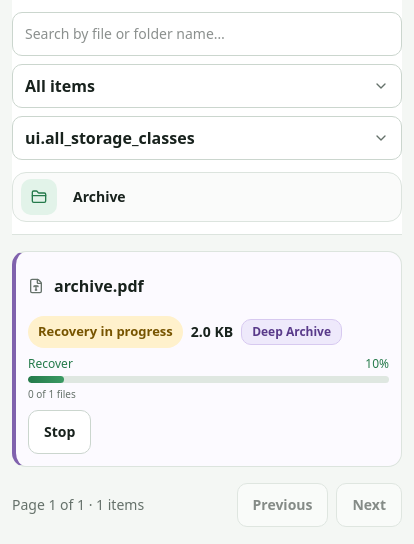
File list auto-refresh (issue #128) › seam 3: cancel recover keeps restoring badge when catalog still reports restoring (BUG-018)
This screenshot has width=414, height=544.
Expected: the text "Recovery in progress" is shown, [28, 316, 183, 348]
Expected: the element with test id "job-progress" is shown, [28, 356, 389, 454]
Click the button with test id "cancel-job" at coordinates (60, 432), box [28, 410, 91, 454]
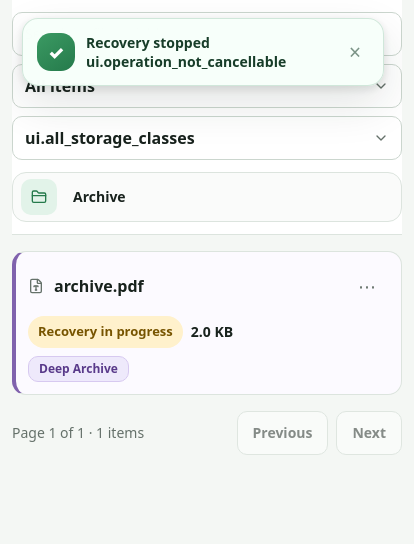
Expected: the text "Recovery in progress" is shown, [28, 316, 183, 348]
Result: the element with test id "job-progress" is gone
